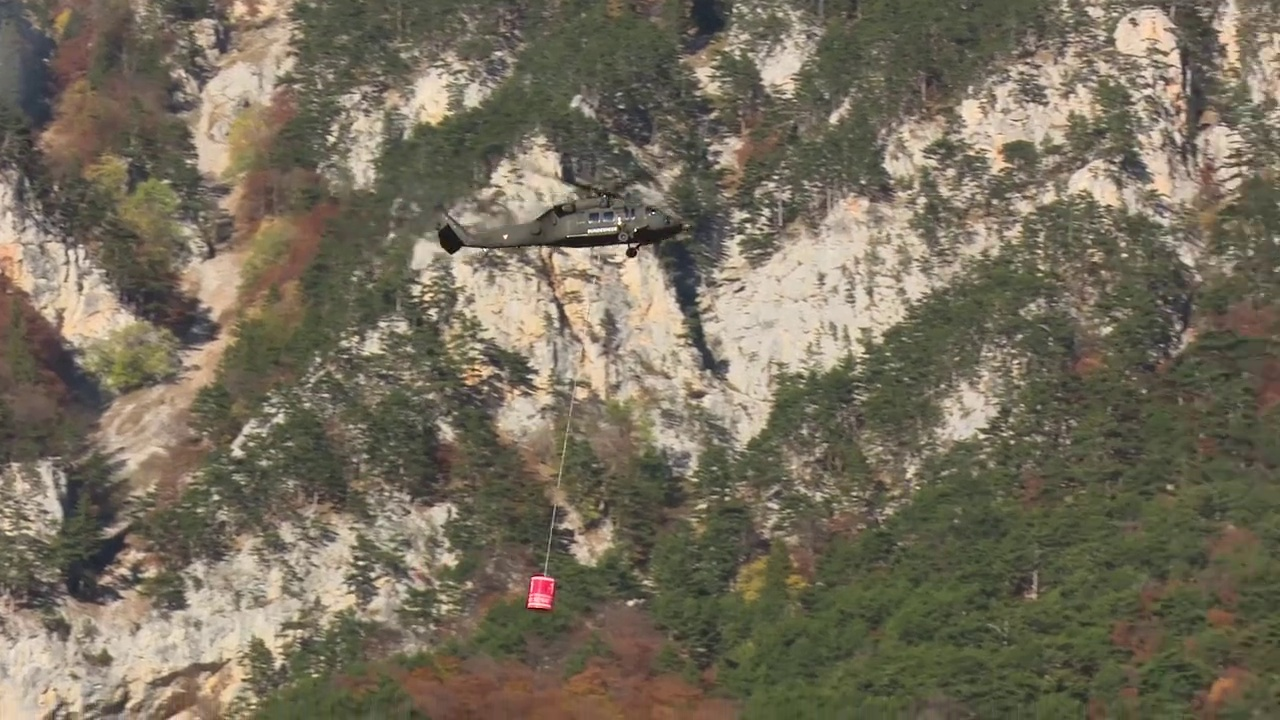heli: (436, 180, 685, 258)
